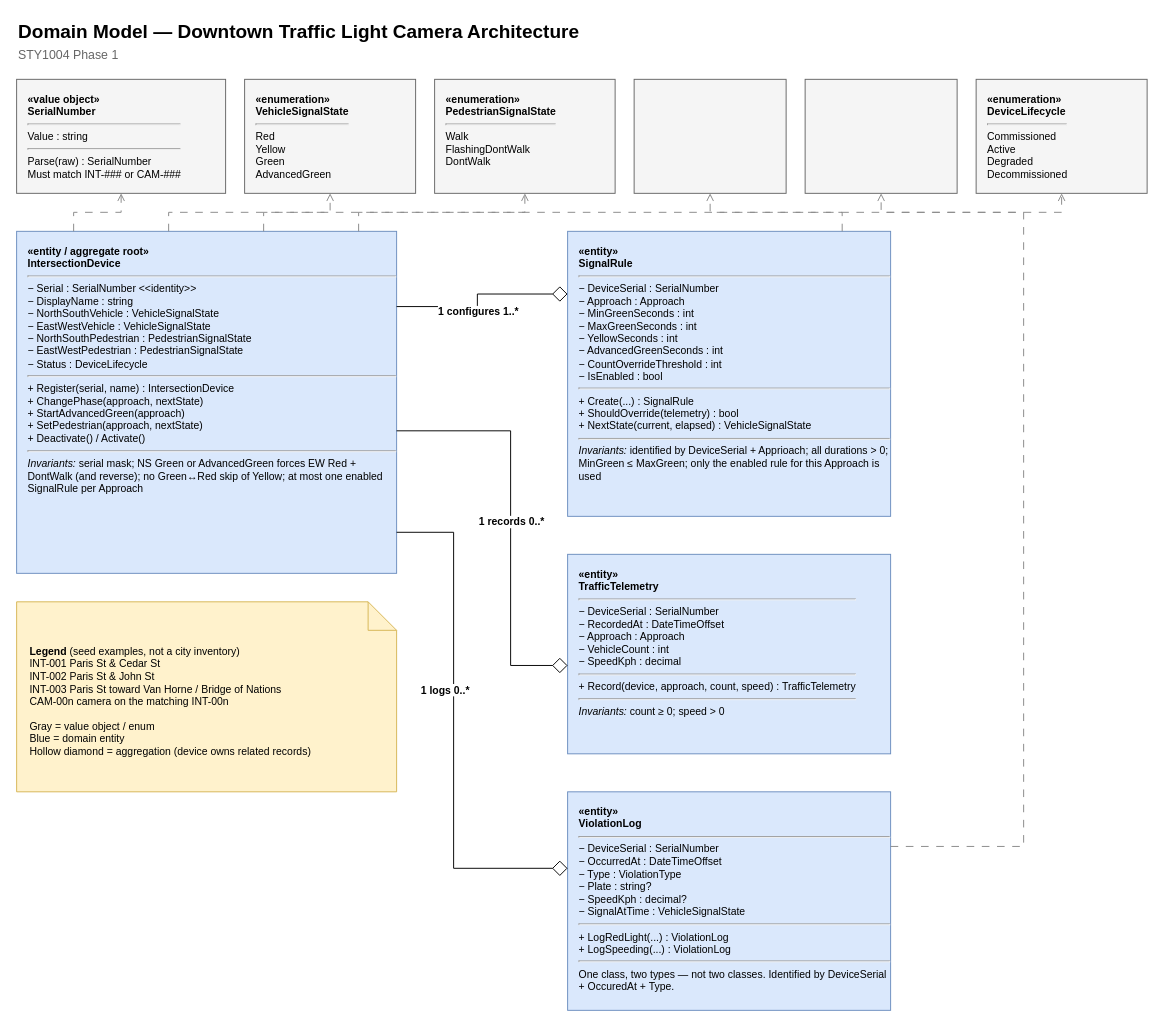
Some shapes in this 1164 by 1027 pixel diagram are drawn without their labels. The centre of each missing label's shape, as x and y in pixels:
"«enumeration» Approach NorthSouth EastWest" belongs at pixel 709 135.
"«enumeration» ViolationType RedLight Speeding" belongs at pixel 880 135.
